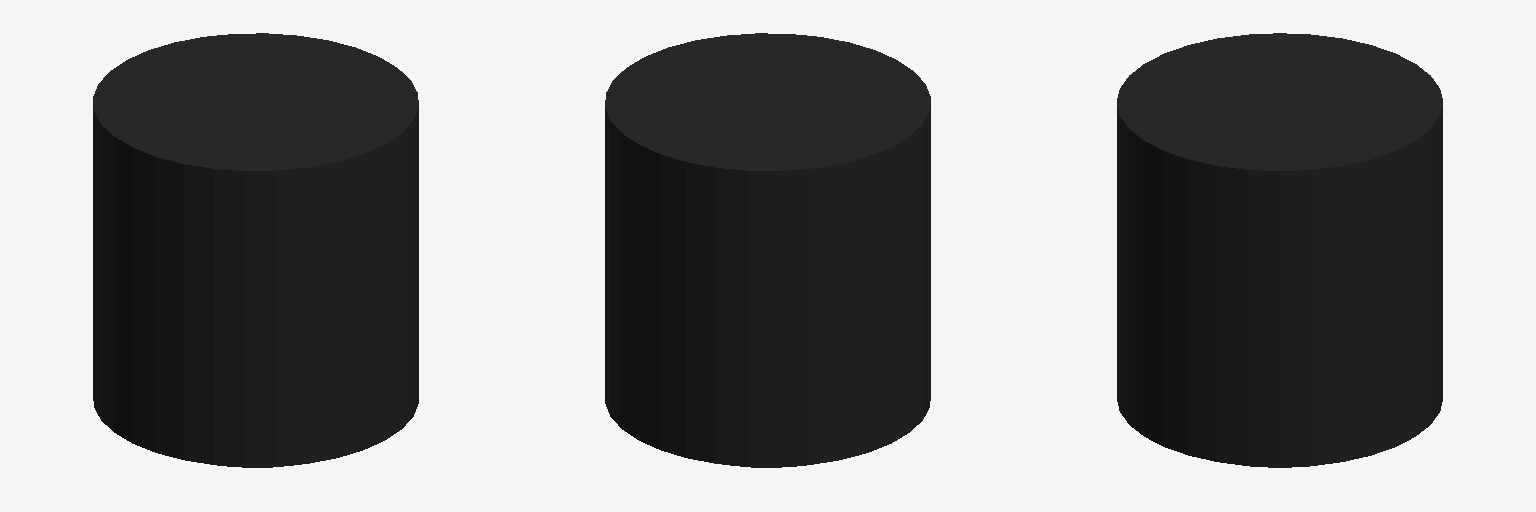
File: pillar.obj
The picture shows the model from 3 angles: view 1: azimuth 30°, elevation 25°; view 2: azimuth 150°, elevation 25°; view 3: azimuth 270°, elevation 25°; orthographic projection.
Visible parts, largest first — view 1: Cylinder; view 2: Cylinder; view 3: Cylinder.
Part boxes in pixels (x1,y1,x2,y2): Cylinder: (93, 33, 418, 467); Cylinder: (605, 33, 930, 467); Cylinder: (1117, 33, 1442, 467).
Size of the model in its own units: 1.94 by 2.02 by 1.94.